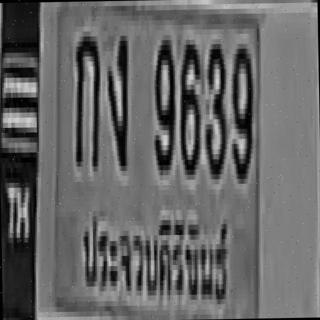A01: (69, 16, 105, 187)
A07: (100, 14, 138, 200)
N03: (202, 19, 230, 208)
N06: (176, 24, 205, 204)
N09: (229, 28, 257, 216), (149, 28, 180, 194)
P50: (78, 185, 238, 320)
